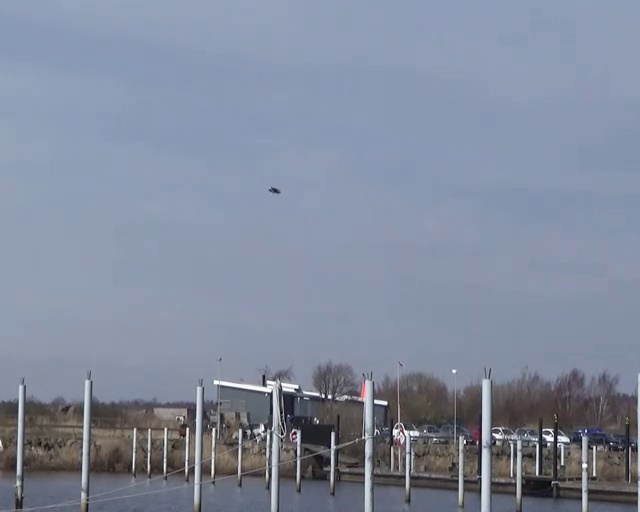BIRD: (269, 186, 281, 193)
